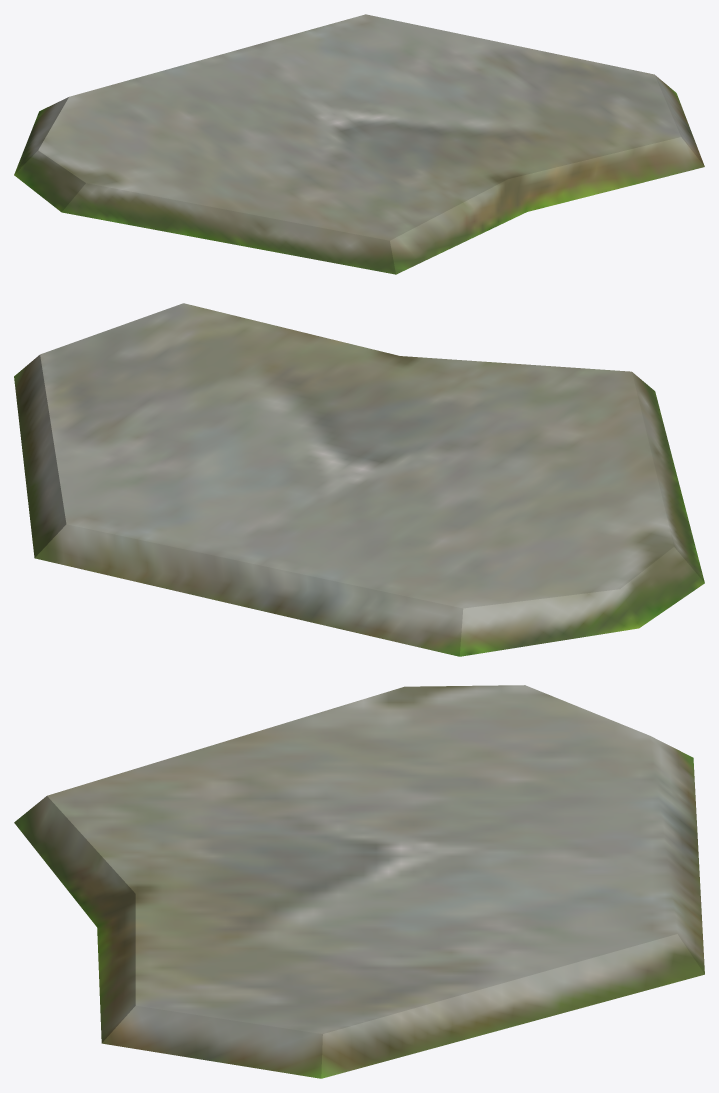
The model's file is 1001_Item_shidimian_5.FBX.
3 views of the same model, one above another, from view 1: azimuth 30°, elevation 25°; view 2: azimuth 150°, elevation 25°; view 3: azimuth 270°, elevation 25° (orthographic). The views are drawn at different scales.
Visible parts, largest first — view 1: 1001_Item_shidimian_5; view 2: 1001_Item_shidimian_5; view 3: 1001_Item_shidimian_5.
Boxes of the visible parts, x1=… form: 1001_Item_shidimian_5: x1=14, y1=14, x2=704, y2=274; 1001_Item_shidimian_5: x1=14, y1=303, x2=704, y2=656; 1001_Item_shidimian_5: x1=14, y1=685, x2=704, y2=1078.
Size of the model in its own units: 141 by 109 by 5.37.
